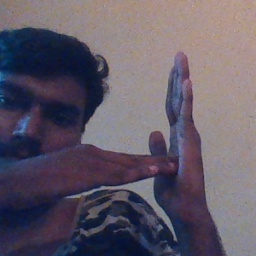Z: (106, 50, 214, 224)
